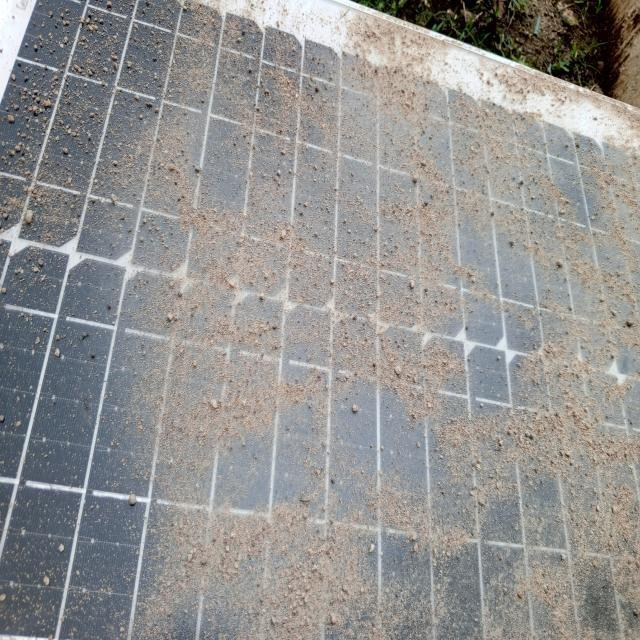Surface Contaminant: (50, 94, 600, 639)
